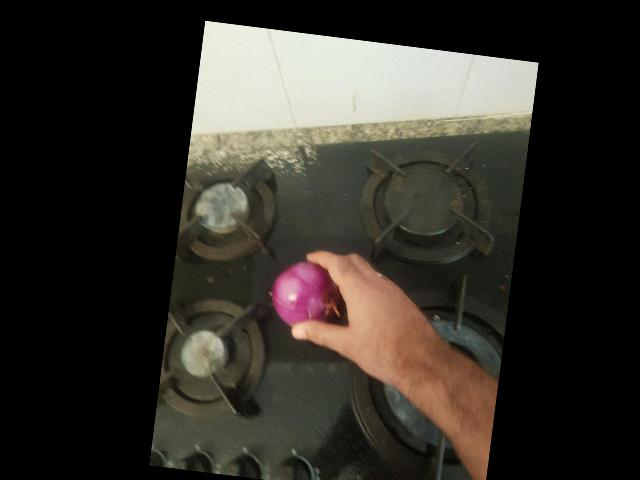onion: (226, 122, 302, 198)
